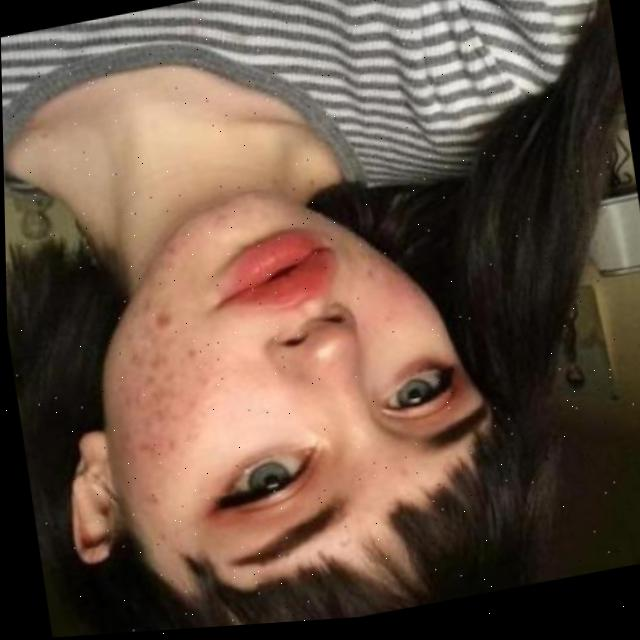Acne: (90, 236, 230, 524)
